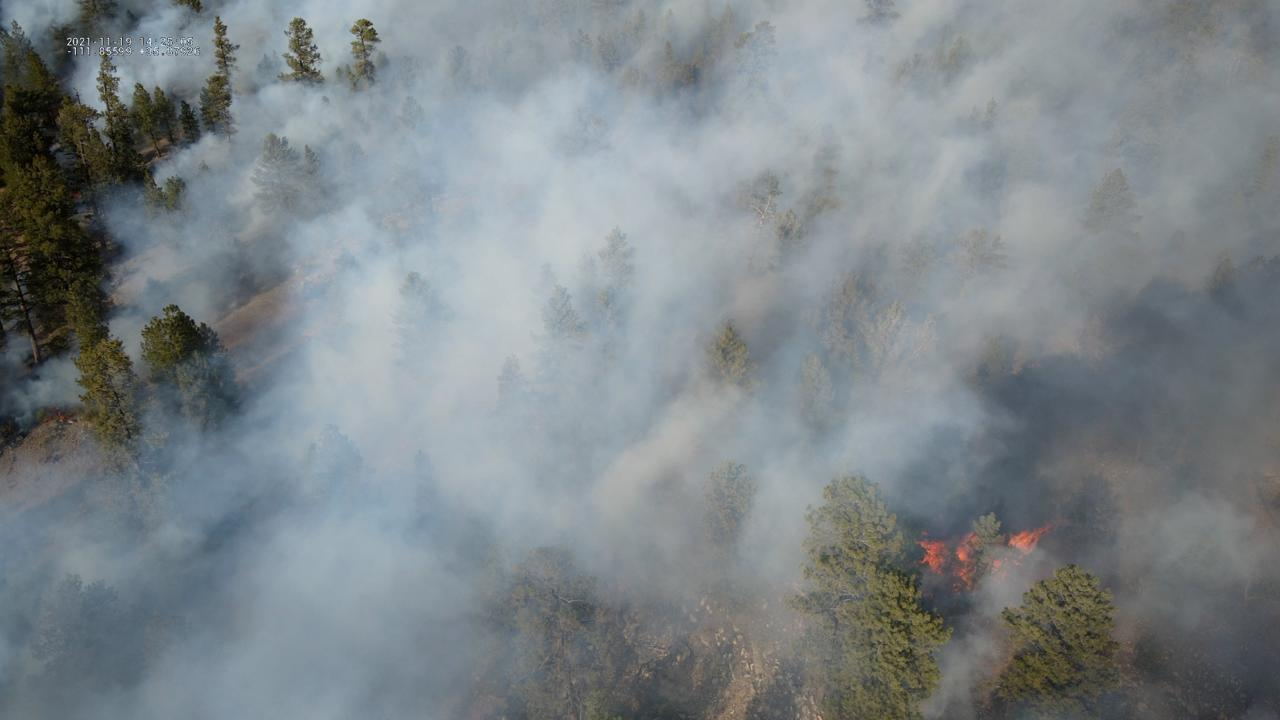fire: (911, 529, 981, 594), (988, 521, 1054, 585)
smoke: (0, 0, 1280, 720)
